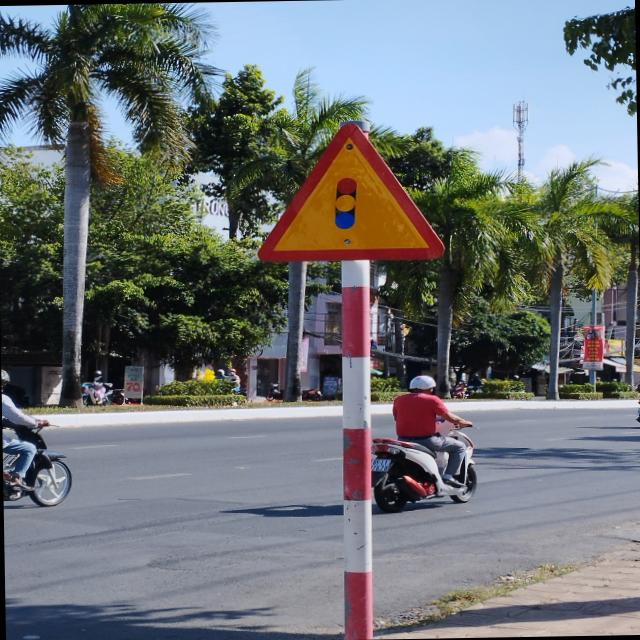Duong_Co_Go_Giam_Toc: (256, 120, 444, 262)
